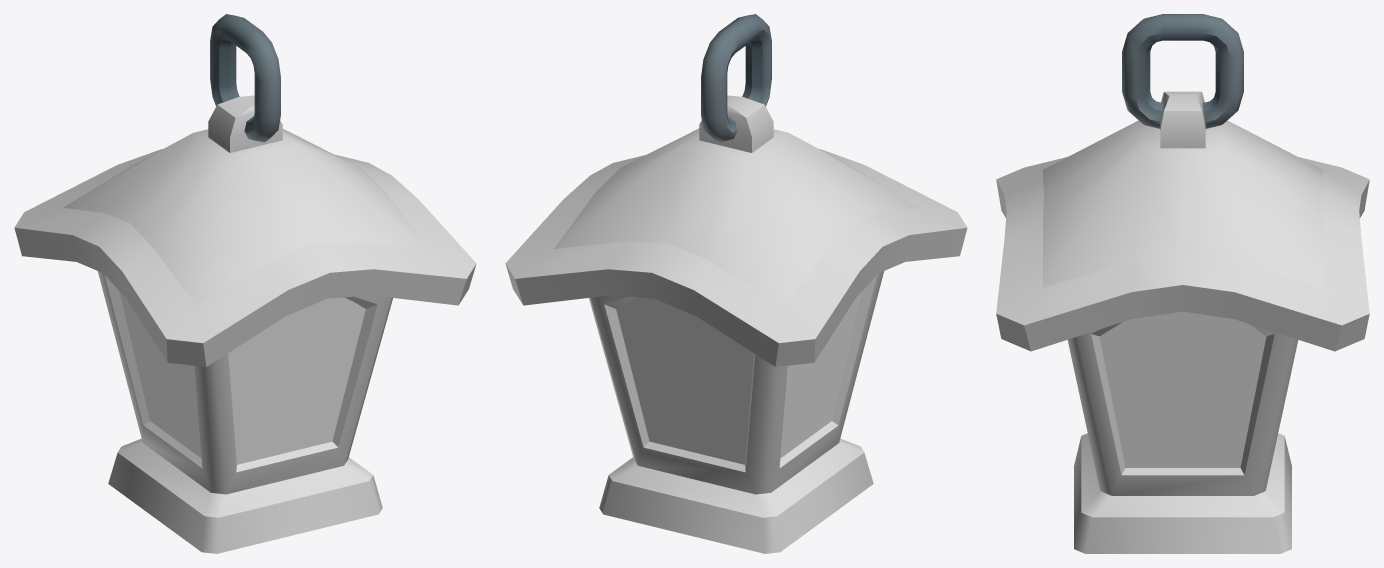
The model's file is KT_lantern.glb.
The picture shows the model from 3 angles, left to right: view 1: azimuth 30°, elevation 25°; view 2: azimuth 150°, elevation 25°; view 3: azimuth 270°, elevation 25°; orthographic projection. The views are drawn at different scales.
Visible parts, largest first — view 1: lantern, lantern_handle; view 2: lantern, lantern_handle; view 3: lantern, lantern_handle.
Boxes of the visible parts, x1,y1,x2,y2 form: lantern: (14, 95, 476, 553); lantern_handle: (210, 14, 280, 142); lantern: (505, 95, 967, 553); lantern_handle: (701, 14, 771, 142); lantern: (996, 91, 1369, 553); lantern_handle: (1122, 14, 1243, 128).
Bounding box in the file's own units: 0.7528 × 1.11 × 0.7528.
